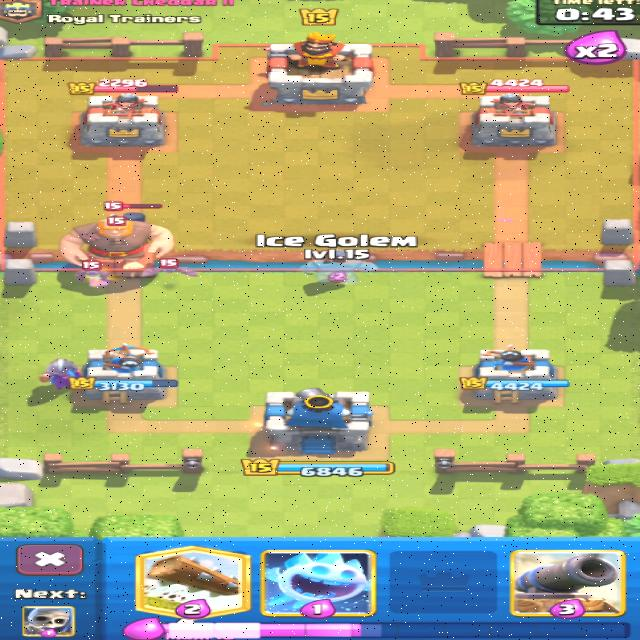Enemy-Bat: (143, 259, 196, 277), (75, 261, 107, 287)
Enemy-Giant: (60, 215, 173, 268)
Enemy-KingTower: (267, 32, 372, 103)
Enemy-NightWitch: (104, 201, 160, 220)
Enemy-PrincessTower: (472, 93, 555, 147), (82, 93, 163, 145)
Player-KingTower-Activated: (264, 388, 372, 455)
Player-Musketeer-Evo: (40, 358, 81, 389), (538, 376, 585, 390)
Player-PrincessTower: (71, 344, 177, 404), (471, 345, 555, 402)
